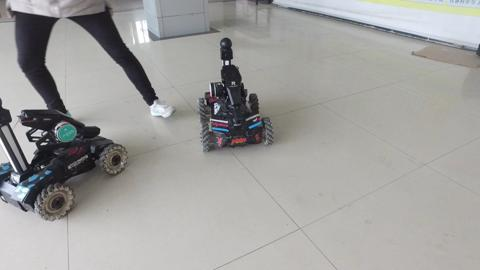chariot: (1, 97, 128, 220), (194, 31, 279, 163)
